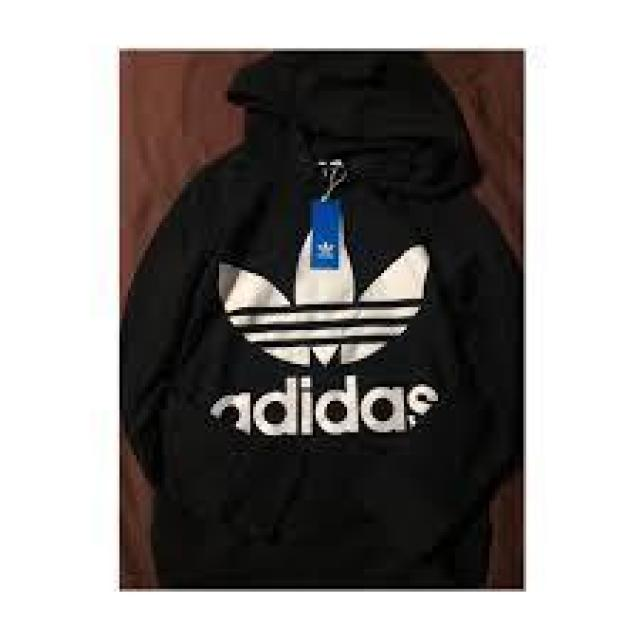sweater: (128, 52, 521, 584)
